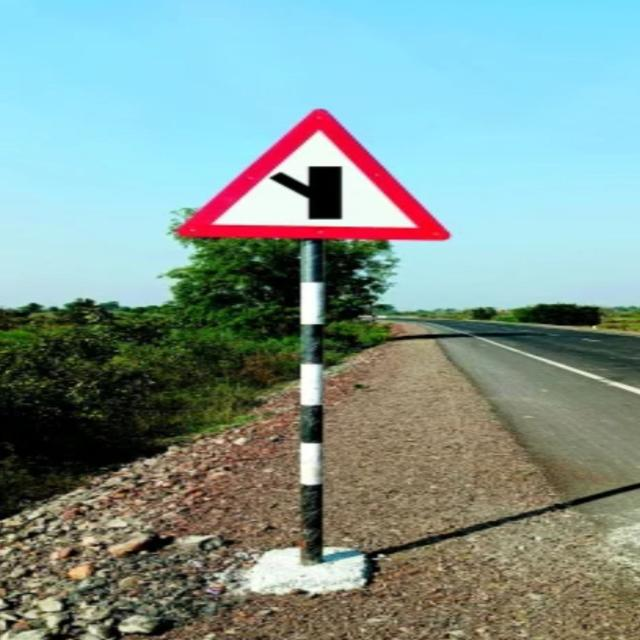yjunction_to_left: (162, 93, 485, 304)
